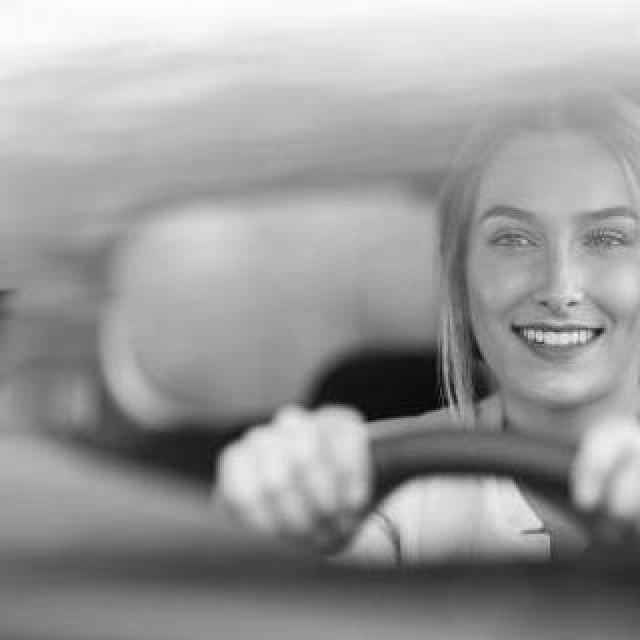Focused: (468, 156, 638, 400)
